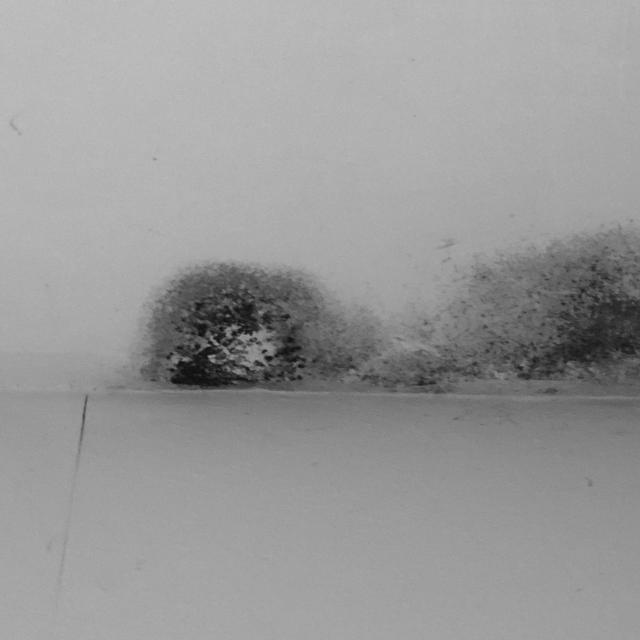stain marks: (88, 238, 411, 414), (411, 214, 640, 418)
